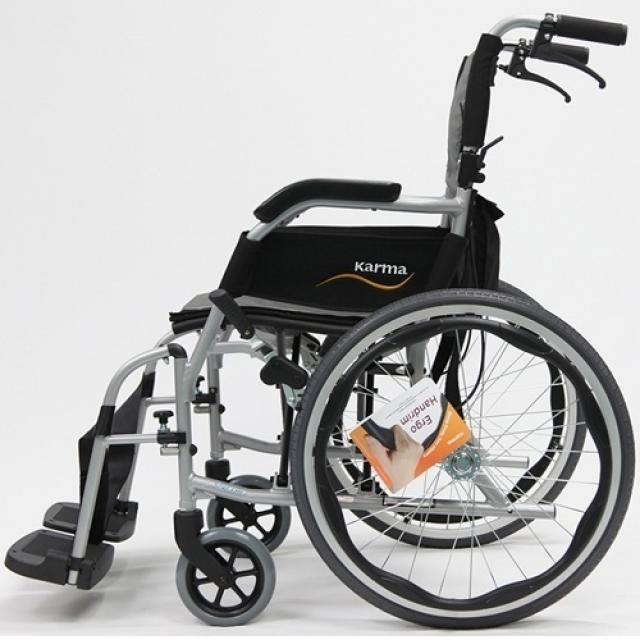wheelchair: (4, 10, 640, 640)
